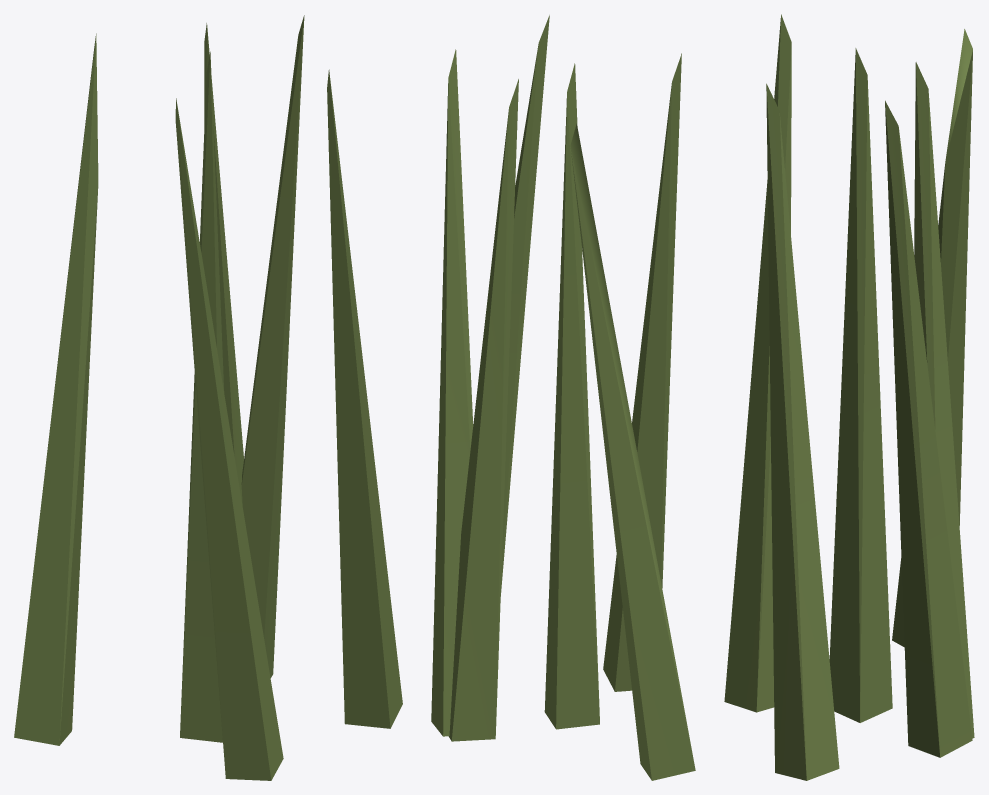
Rendered from prop_reed_lod2.glb.
3 renders of one model, left to right at view 1: azimuth 30°, elevation 25°; view 2: azimuth 150°, elevation 25°; view 3: azimuth 270°, elevation 25°, orthographic. The views are drawn at different scales.
Parts seen in each view (by area): view 1: prop_reed_lod2; view 2: prop_reed_lod2; view 3: prop_reed_lod2.
Part boxes in pixels (left/top/right/bottom): prop_reed_lod2: left=14, top=15, right=402, bottom=780; prop_reed_lod2: left=431, top=15, right=695, bottom=780; prop_reed_lod2: left=724, top=14, right=974, bottom=780.
Bounding box in the file's own units: 0.4521 × 0.8992 × 0.3079.
